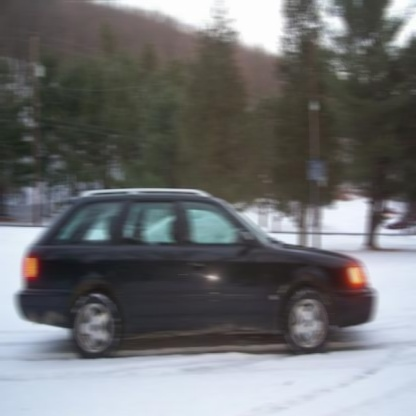Vehicle: (16, 188, 374, 360)
